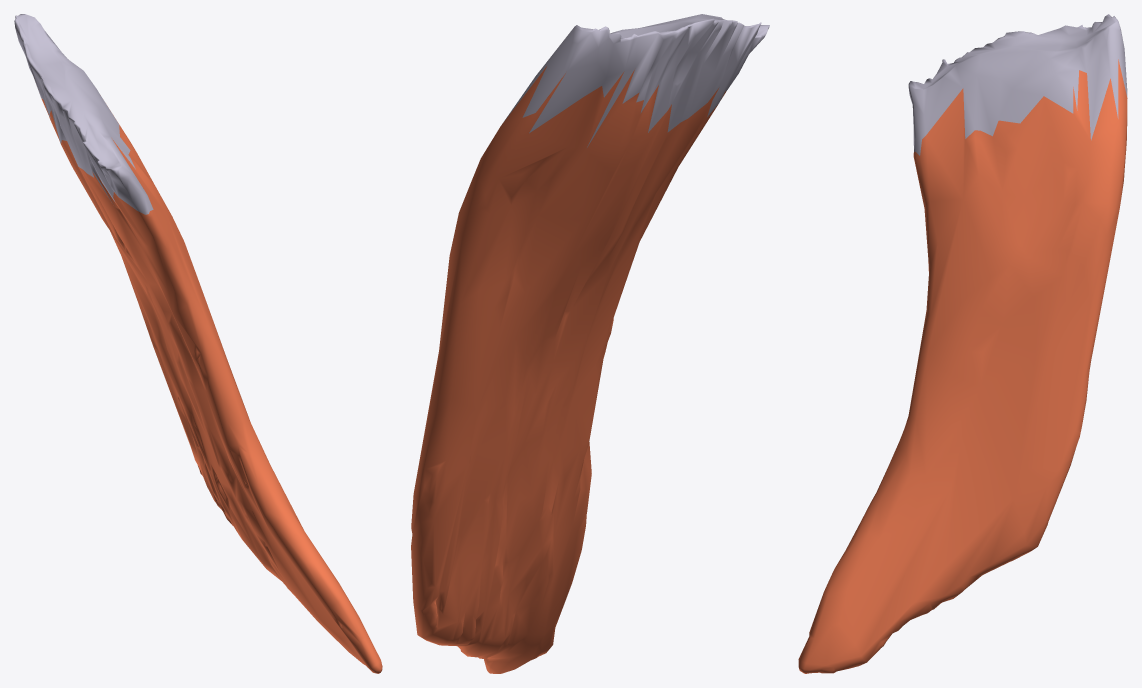
The model's file is Deep_part_of_masseter.r_Generated_Mesh_From_X3D.988.glb.
3 views of the same model, side by side, from view 1: azimuth 30°, elevation 25°; view 2: azimuth 150°, elevation 25°; view 3: azimuth 270°, elevation 25° (orthographic). The views are drawn at different scales.
Visible parts, largest first — view 1: Deep_part_of_masseter.r_Generated_Mesh_From_X3D.988; view 2: Deep_part_of_masseter.r_Generated_Mesh_From_X3D.988; view 3: Deep_part_of_masseter.r_Generated_Mesh_From_X3D.988.
Boxes of the visible parts, box(x1,y1,x2,y2) form: Deep_part_of_masseter.r_Generated_Mesh_From_X3D.988: box(14, 14, 382, 673); Deep_part_of_masseter.r_Generated_Mesh_From_X3D.988: box(411, 14, 769, 673); Deep_part_of_masseter.r_Generated_Mesh_From_X3D.988: box(798, 14, 1127, 673).
Bounding box in the file's own units: 0.027 × 0.0655 × 0.0346.
